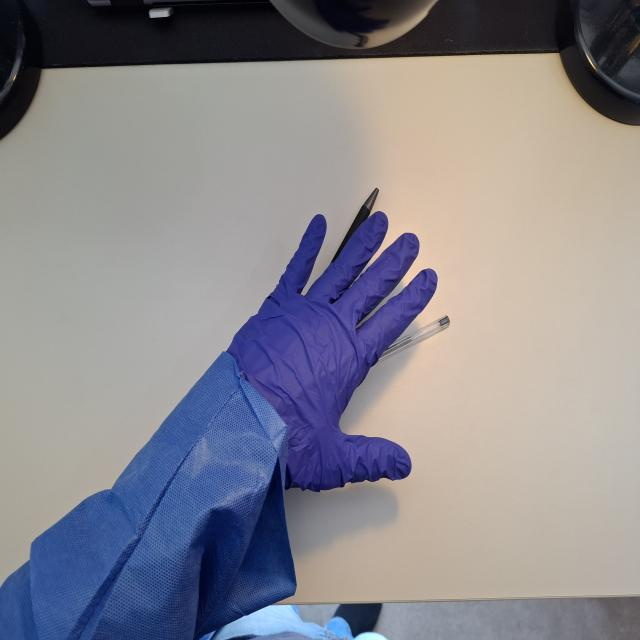glove_on: (219, 207, 440, 497)
